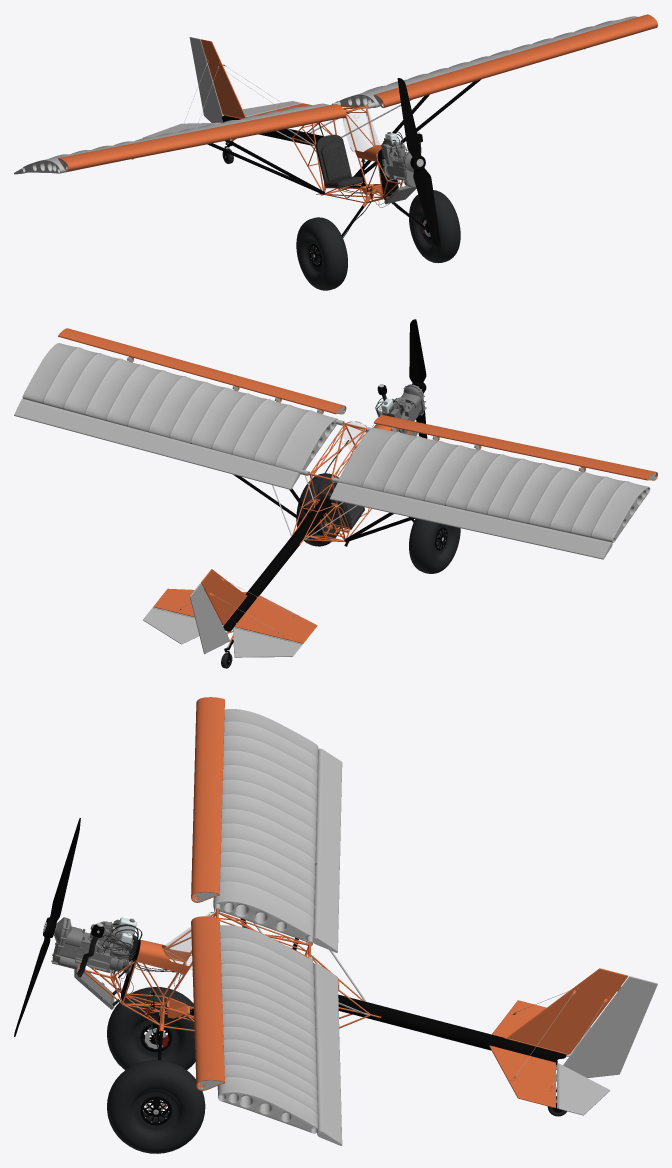
The model's file is aircraft.glb.
3 views of the same model, one above another, from view 1: azimuth 30°, elevation 25°; view 2: azimuth 150°, elevation 25°; view 3: azimuth 270°, elevation 25° (orthographic). The views are drawn at different scales.
Parts seen in each view (by area): view 1: polySurface1264, polySurface1259, polySurface1493, polySurface1630, polySurface1455, polySurface1516, polySurface1723, polySurface1509, polySurface1562, polySurface1517; view 2: polySurface1264, polySurface1259, polySurface1493, polySurface1509, polySurface1630, polySurface1455; view 3: polySurface1264, polySurface1259, polySurface1630, polySurface1493, polySurface1509, polySurface1455, polySurface1676, polySurface1516.
Part boxes in pixels (x1,y1,x2,y2): polySurface1264: (14,14,657,194); polySurface1259: (143,37,311,163); polySurface1493: (296,217,347,290); polySurface1630: (409,190,460,263); polySurface1455: (397,78,440,247); polySurface1516: (343,108,379,151); polySurface1723: (321,142,351,181); polySurface1509: (222,116,324,145); polySurface1562: (207,143,320,193); polySurface1517: (315,134,351,183); polySurface1264: (14,328,657,559); polySurface1259: (143,569,317,668); polySurface1493: (409,518,460,573); polySurface1509: (222,497,331,631); polySurface1630: (296,473,341,546); polySurface1455: (409,319,427,438); polySurface1264: (191,697,369,1145); polySurface1259: (489,968,657,1116); polySurface1630: (107,1060,205,1153); polySurface1493: (107,987,195,1070); polySurface1509: (338,994,566,1065); polySurface1455: (14,818,80,1036); polySurface1676: (136,939,190,973); polySurface1516: (162,912,213,969).
Bounding box in the file's own units: 8.81 × 3.13 × 6.26.
465 materials, 465 textured.
